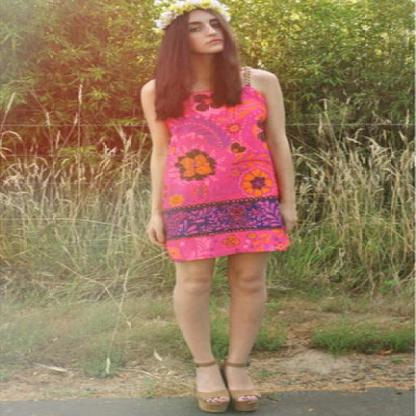dress: (153, 67, 298, 261)
shoe: (194, 358, 270, 402)
